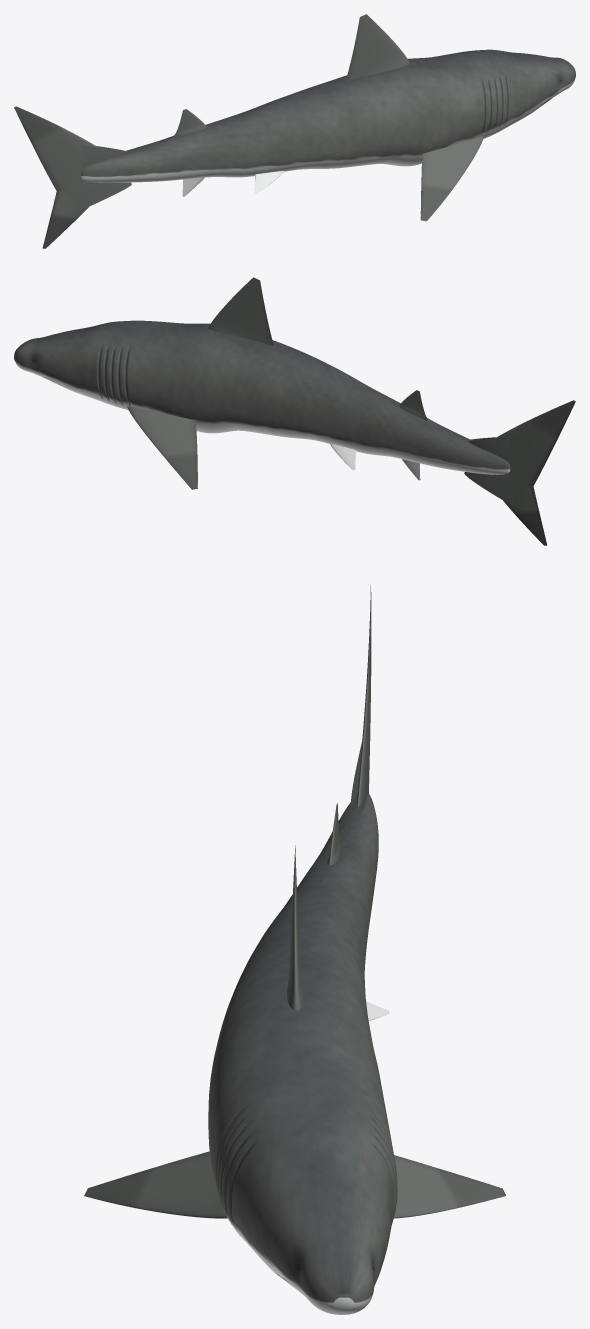
File: galapagos_shark.glb
3 views of the same model, one above another, from view 1: azimuth 30°, elevation 25°; view 2: azimuth 150°, elevation 25°; view 3: azimuth 270°, elevation 25° (orthographic). The views are drawn at different scales.
Visible parts, largest first — view 1: galapagos_shark_Body, galapagos_shark_Fins; view 2: galapagos_shark_Body, galapagos_shark_Fins; view 3: galapagos_shark_Body, galapagos_shark_Fins.
Boxes of the visible parts, left/top/right/bottom form: galapagos_shark_Body: left=81, top=49, right=575, bottom=182; galapagos_shark_Fins: left=14, top=14, right=483, bottom=248; galapagos_shark_Body: left=14, top=320, right=510, bottom=474; galapagos_shark_Fins: left=127, top=277, right=575, bottom=545; galapagos_shark_Body: left=208, top=792, right=397, bottom=1314; galapagos_shark_Fins: left=84, top=585, right=505, bottom=1218.
Size of the model in its own units: 3 by 0.9053 by 0.9922.
3 materials, 1 textured.
